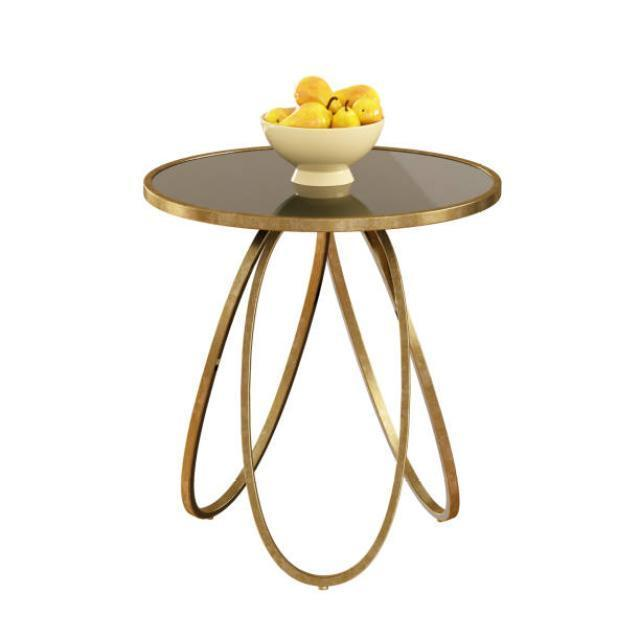table: (141, 143, 502, 589)
